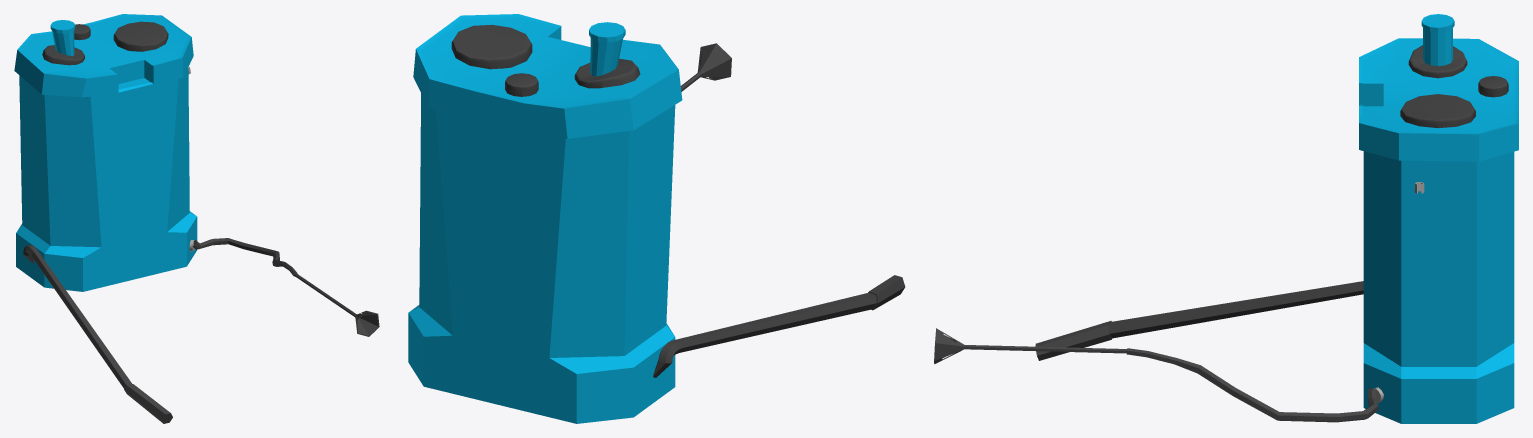
The model's file is sprey can.fbx.
The picture shows the model from 3 angles, left to right: view 1: azimuth 30°, elevation 25°; view 2: azimuth 150°, elevation 25°; view 3: azimuth 270°, elevation 25°; orthographic projection. The views are drawn at different scales.
Visible parts, largest first — view 1: pCube57, pCylinder51, pCylinder48, pCylinder41, pCylinder42; view 2: pCube57, pCylinder51, pCylinder41, pCylinder42, pCylinder48, pCylinder43; view 3: pCube57, pCylinder51, pCylinder48, pCylinder42, pCylinder41, pCylinder43.
Boxes of the visible parts, x1,y1,x2,y2 form: pCube57: [14, 14, 197, 291]; pCylinder51: [23, 244, 172, 423]; pCylinder48: [192, 238, 379, 336]; pCylinder41: [113, 21, 168, 51]; pCylinder42: [42, 20, 84, 65]; pCube57: [408, 14, 682, 423]; pCylinder51: [653, 275, 905, 377]; pCylinder41: [451, 25, 532, 69]; pCylinder42: [574, 22, 640, 88]; pCylinder48: [680, 43, 731, 91]; pCylinder43: [505, 73, 538, 96]; pCube57: [1359, 38, 1518, 423]; pCylinder51: [1035, 281, 1363, 360]; pCylinder48: [934, 328, 1378, 422]; pCylinder42: [1408, 14, 1467, 78]; pCylinder41: [1400, 94, 1475, 128]; pCylinder43: [1478, 76, 1508, 97].
Bounding box in the file's own units: 49.44 × 60.19 × 86.62.
